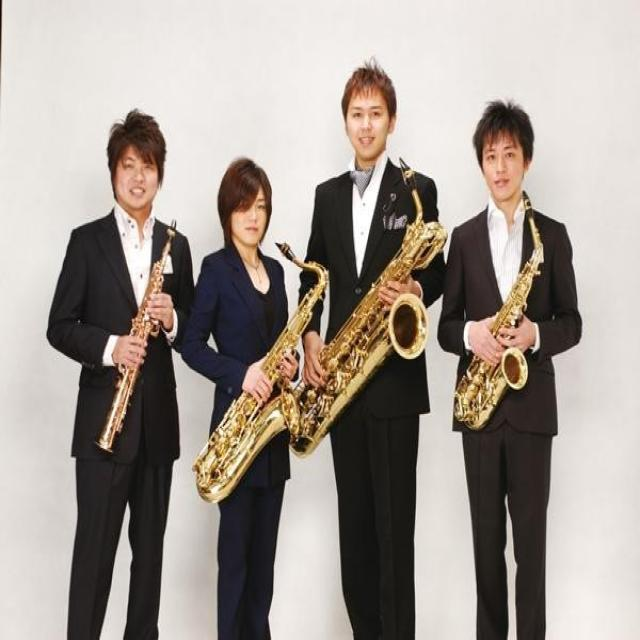saxophone: (282, 155, 450, 459), (190, 236, 332, 505), (453, 188, 546, 430)
